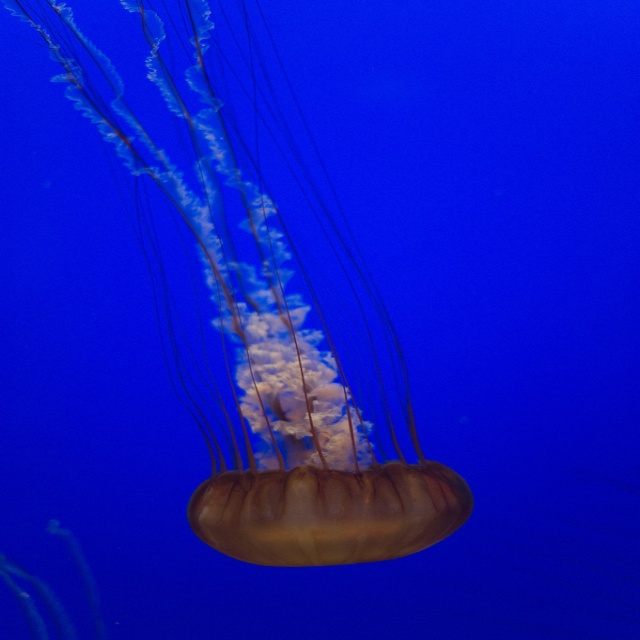Jellyfish: (28, 14, 460, 574)
